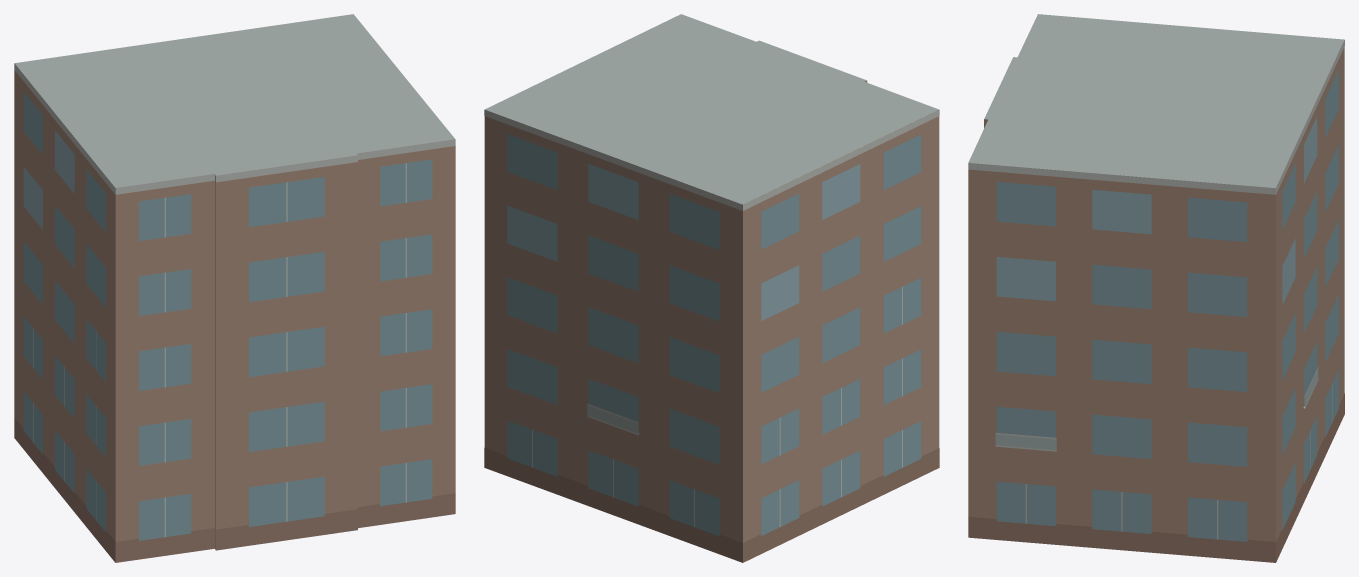
File: survey-upis-32877017.glb
The picture shows the model from 3 angles, left to right: view 1: azimuth 30°, elevation 25°; view 2: azimuth 150°, elevation 25°; view 3: azimuth 270°, elevation 25°; orthographic projection. The views are drawn at different scales.
Parts seen in each view (by area): view 1: survey-upis-32877017.tmp; view 2: survey-upis-32877017.tmp; view 3: survey-upis-32877017.tmp.
Boxes of the visible parts, bbox=[...] form: survey-upis-32877017.tmp: bbox=[14, 14, 455, 562]; survey-upis-32877017.tmp: bbox=[484, 14, 939, 562]; survey-upis-32877017.tmp: bbox=[968, 14, 1344, 562].
Bounding box in the file's own units: 13.77 × 13.8 × 12.58.
